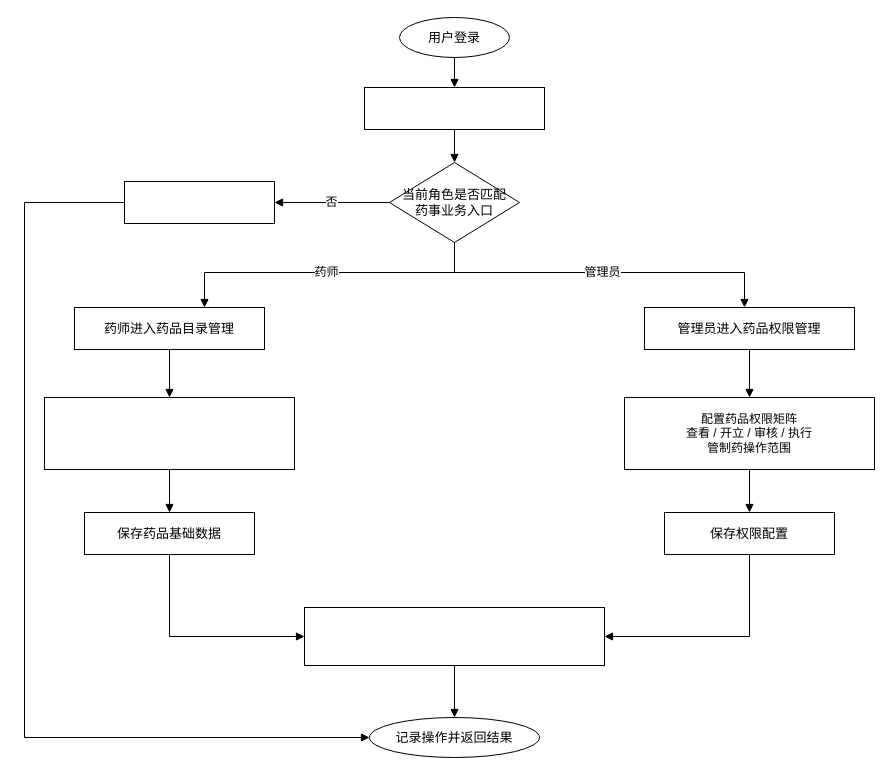
Some shapes in this 892 by 775 pixel diagram are drawn without their labels. Each missing label, with the box of its shape:
支撑当前用药展示、 用药充分性评估和角色级药品控制: (304, 606, 604, 666)
维护药品目录 通用名 / 剂型规格 / 状态 处方药标识 / 管制药标识: (44, 396, 294, 470)
返回无权限提示: (124, 180, 274, 224)
进入药事管理入口: (364, 86, 544, 130)
